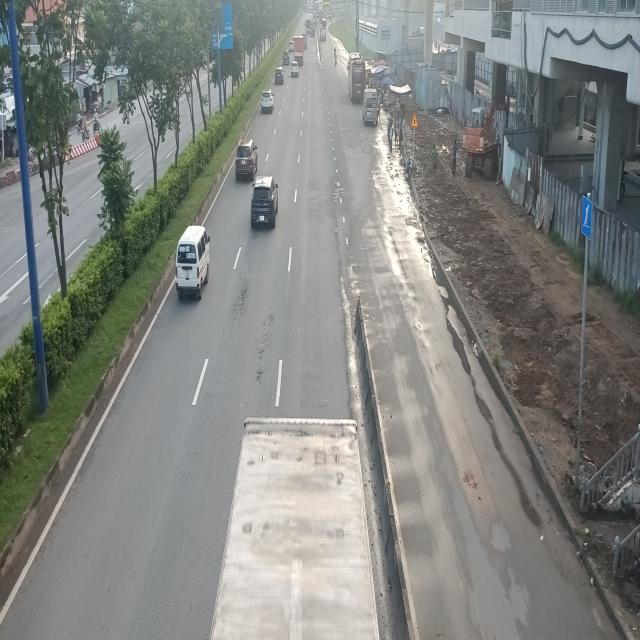car: (249, 176, 279, 229), (235, 141, 259, 182)
coach: (348, 52, 365, 103)
van: (176, 226, 212, 298), (362, 89, 380, 126)
